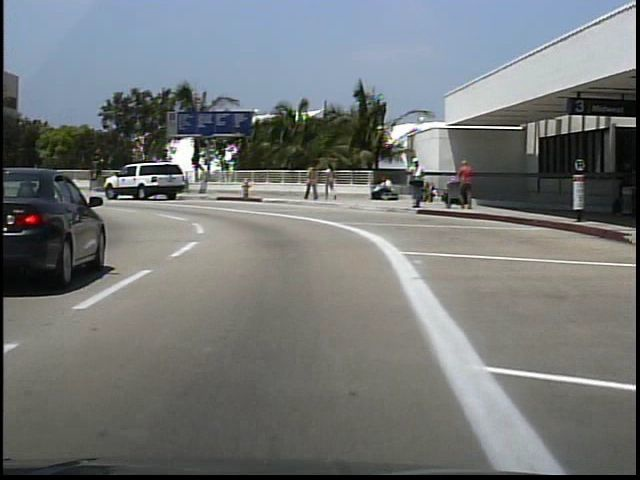person: (402, 157, 424, 216), (457, 158, 477, 212), (323, 161, 339, 206), (369, 175, 392, 205), (305, 162, 319, 204)
